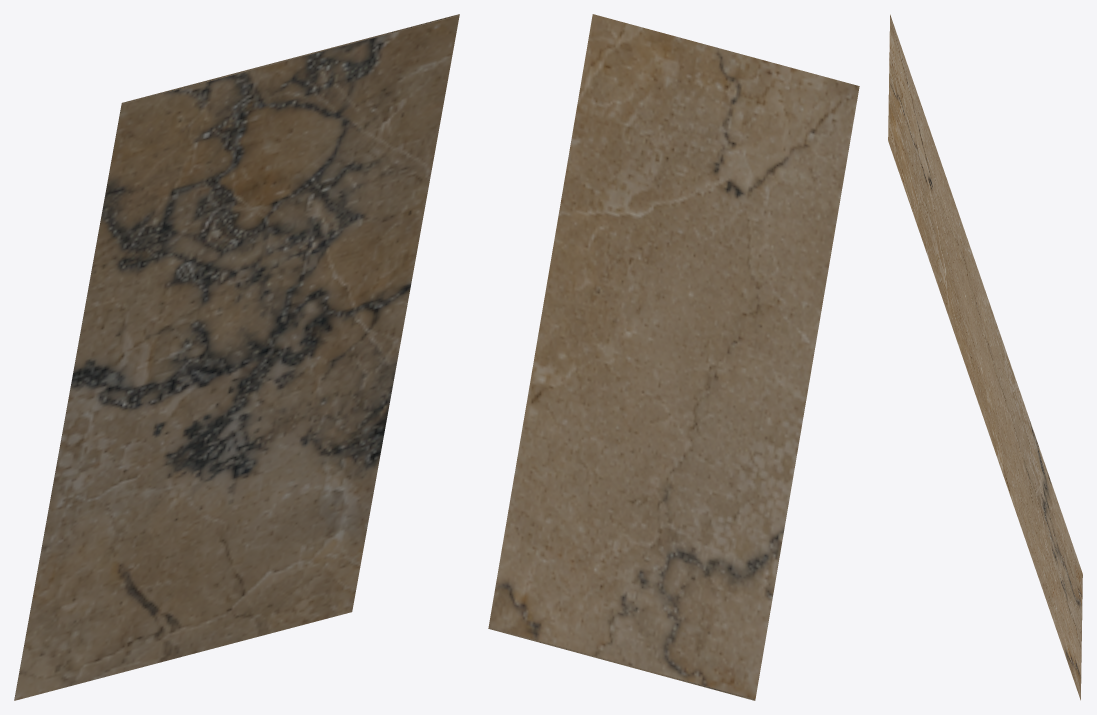
Rendered from batik.glb.
3 views of the same model, side by side, from view 1: azimuth 30°, elevation 25°; view 2: azimuth 150°, elevation 25°; view 3: azimuth 270°, elevation 25° (orthographic). The views are drawn at different scales.
Parts seen in each view (by area): view 1: Cube.002; view 2: Cube.002; view 3: Cube.002.
Boxes of the visible parts, bbox=[...] form: Cube.002: bbox=[14, 14, 459, 700]; Cube.002: bbox=[488, 14, 859, 700]; Cube.002: bbox=[888, 14, 1082, 700].
Bounding box in the file's own units: 1.2 × 2.29 × 0.7192.
Materials: 1 (1 with a texture image).
